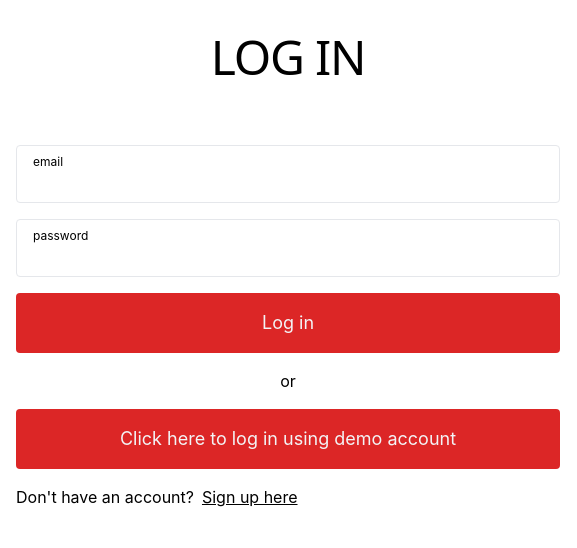
Test: Login › should show error when trying to submit without entering input value
The width and height of the screenshot is (577, 548).
Click the button "Log in" at (288, 323), box [16,293,560,353]
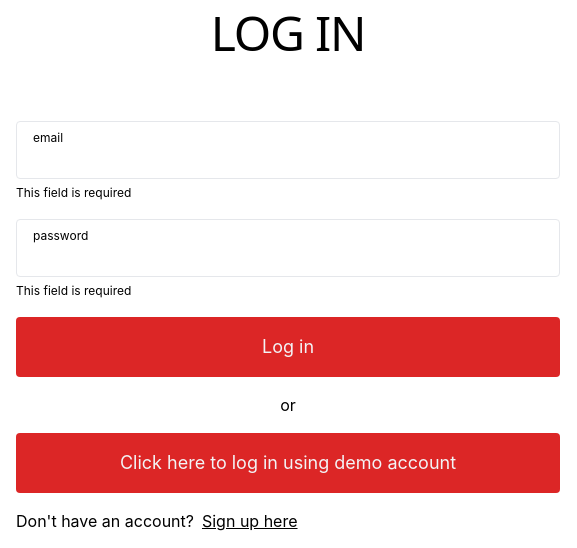
Check: the text "This field is required" is shown 2 times, box [16,185,131,200]; [16,283,131,298]
